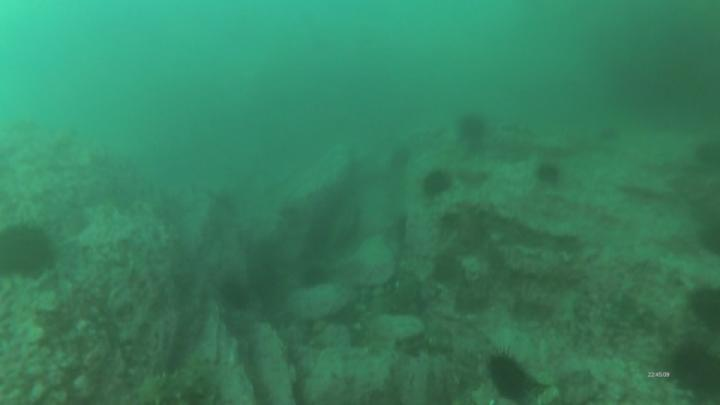echinus: (1, 221, 60, 281), (665, 335, 720, 398), (483, 348, 538, 405), (686, 278, 720, 330), (453, 110, 490, 147), (217, 275, 253, 313), (419, 167, 455, 204), (431, 252, 464, 286), (297, 263, 333, 292), (692, 137, 720, 174), (534, 160, 566, 188)
